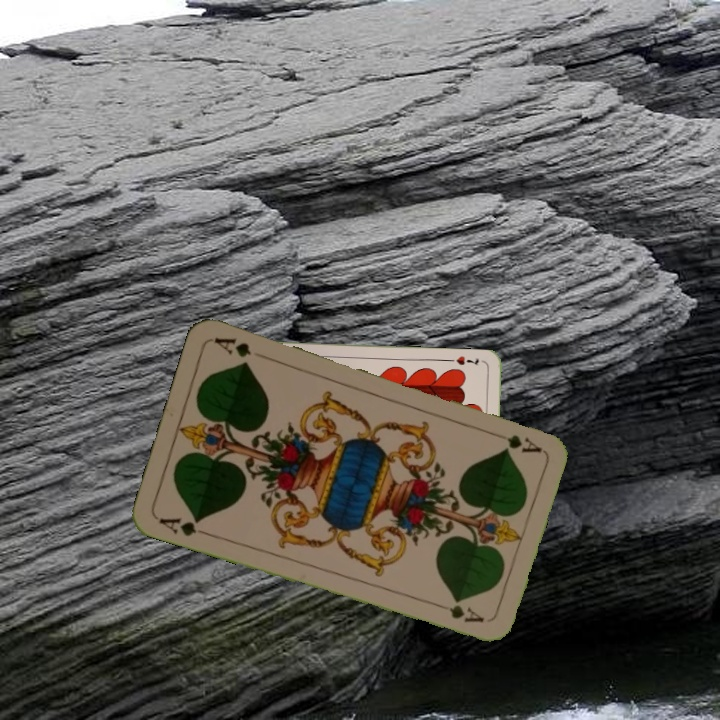GA: (486, 427, 543, 455), (155, 513, 212, 539)
H7: (453, 352, 481, 368)
